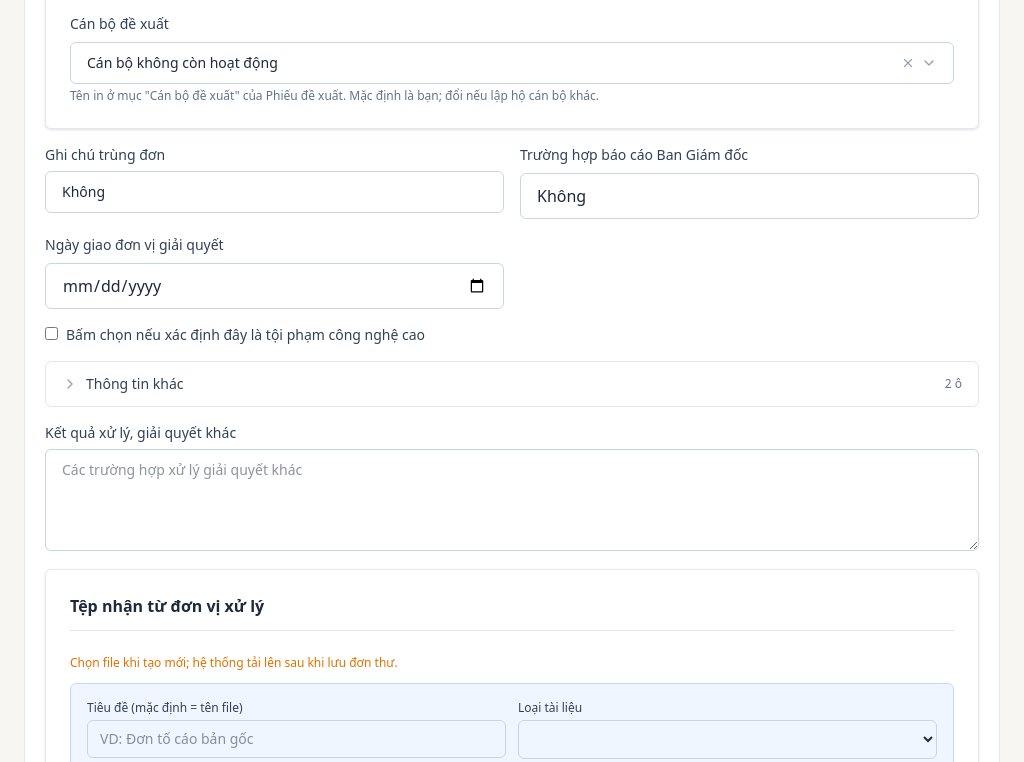
Scenario: Form Đơn thư — nhóm "Thông tin khác" › bấm vào là bung ra để nhập
(page scrolled)
Click the button with test id "nhom-thong-tin-khac-nut" at coordinates (135, 384), box [46, 362, 978, 406]
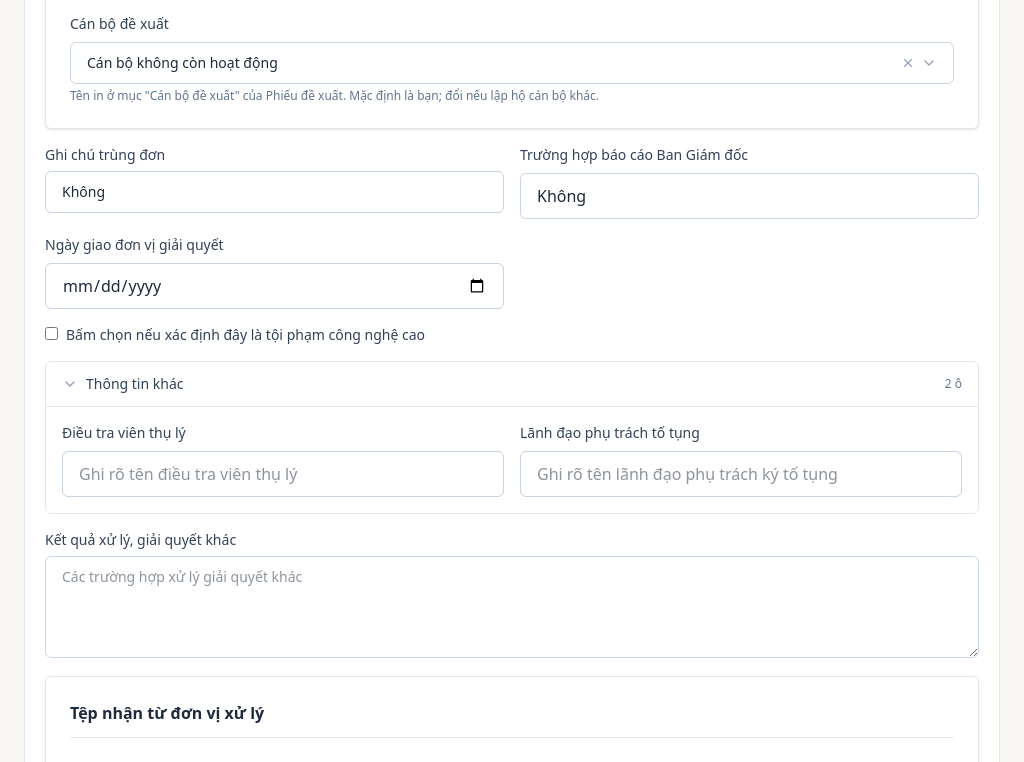
Check: the field with test id "field-dieuTraVien" is shown, box [62, 451, 504, 497]
Check: the field with test id "field-lanhDaoToTung" is shown, box [520, 451, 962, 497]
